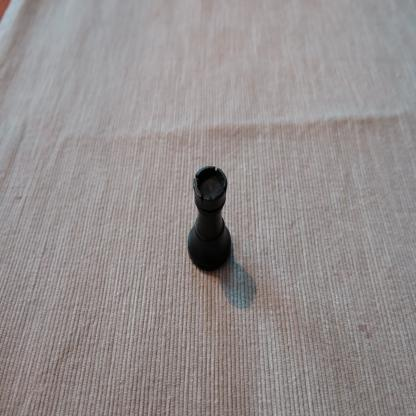black-rook: (187, 164, 232, 274)
